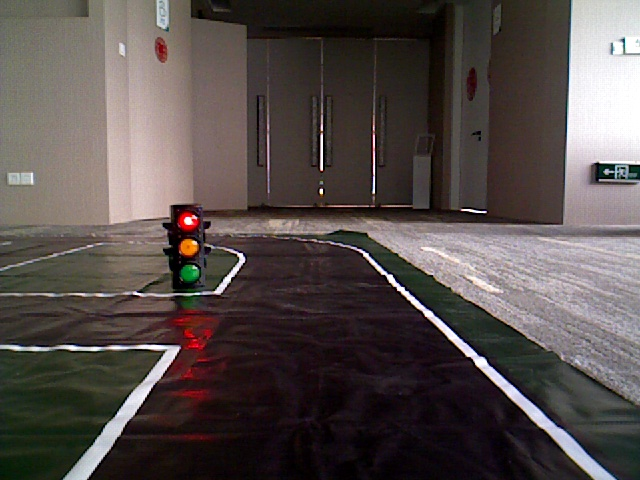red: (170, 209, 200, 283)
